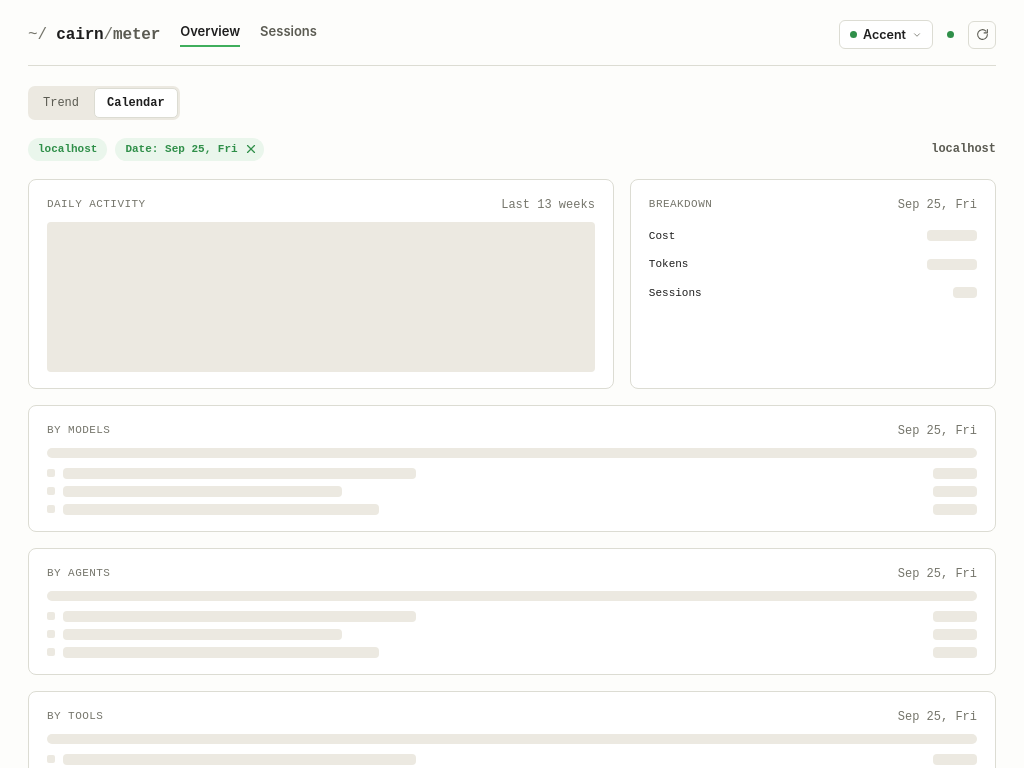
it: Overview › clearing the selected-day chip updates only the URL's date param, leaving view/project alone
The width and height of the screenshot is (1024, 768).
Expected: the element with test id "install-scope-date-chip" is shown, [115,138,264,160]
Click the element titled "Clear selected day" at point(251, 149), box [244,142,258,156]
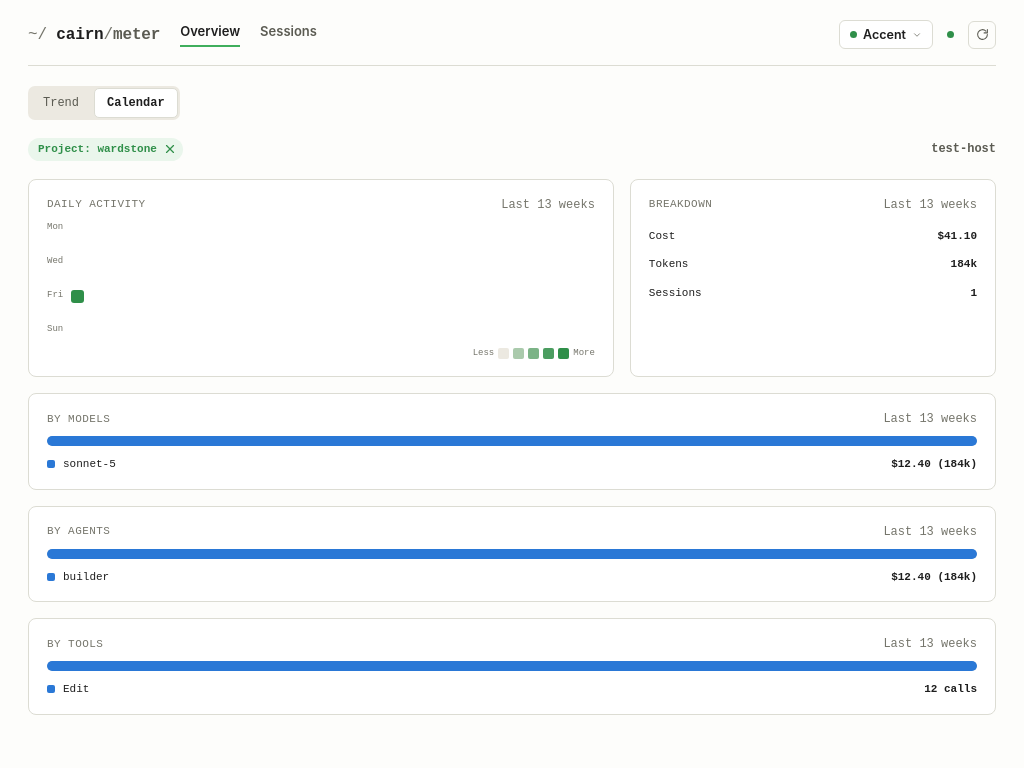
Now the element with test id "install-scope-date-chip" is gone
